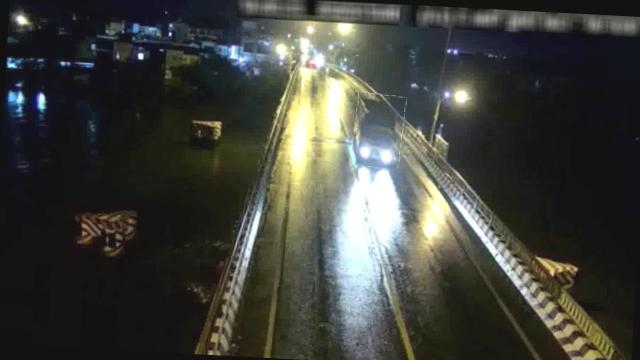Truck: (351, 92, 404, 170)
